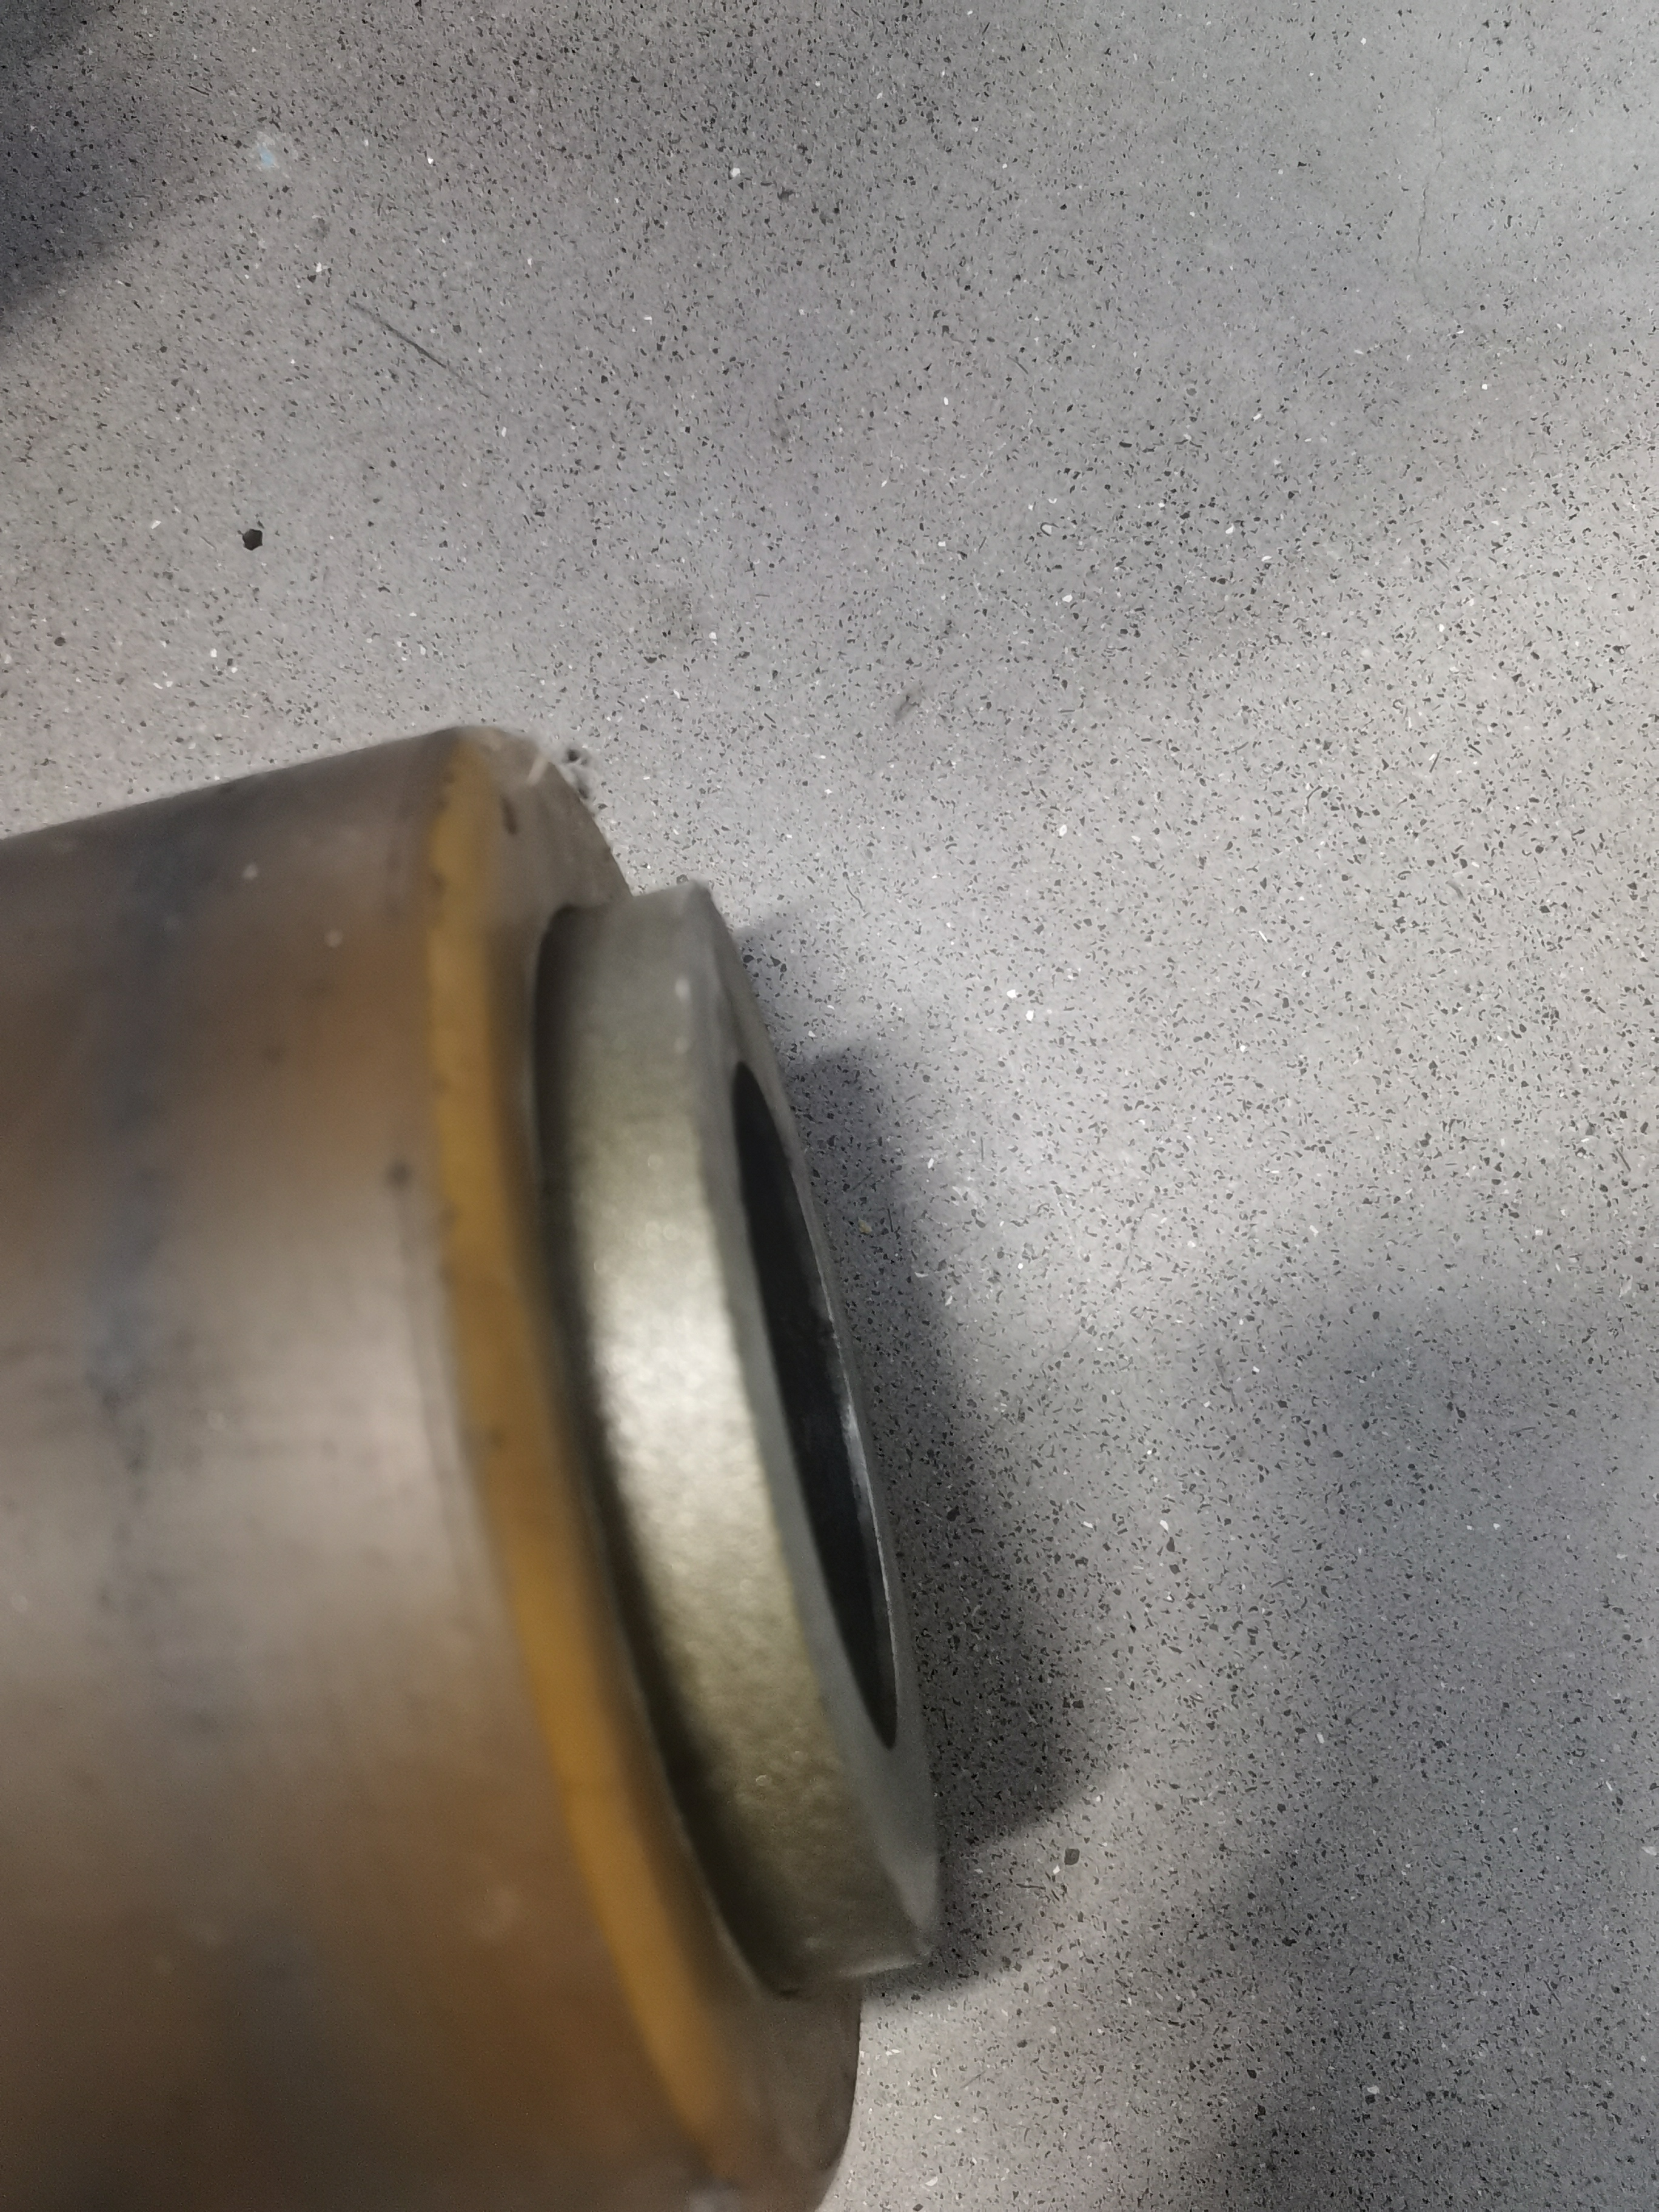bad_wheel: (467, 855, 877, 1932)
